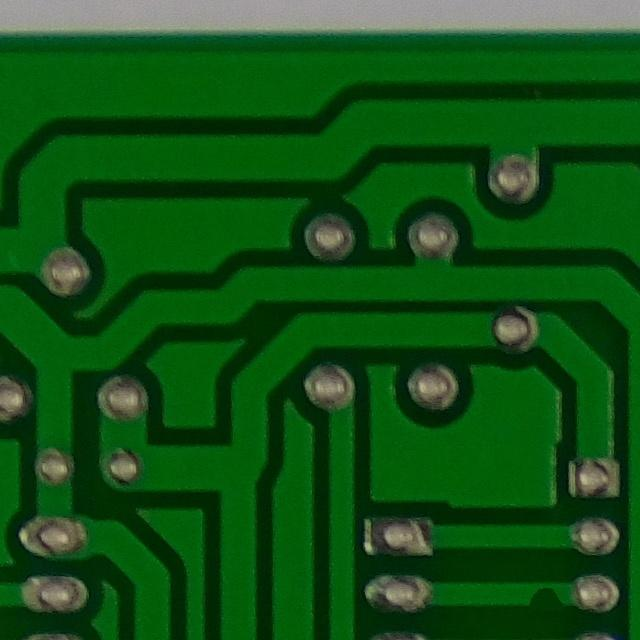mouse_bite: (521, 578, 571, 618)
